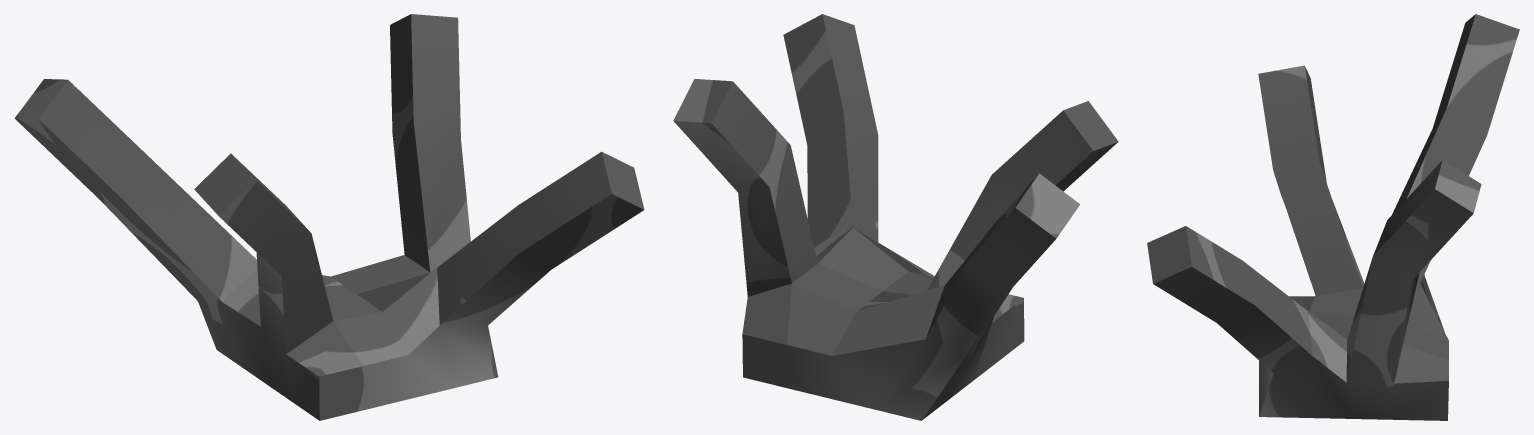
File: spider.fbx
3 views of the same model, side by side, from view 1: azimuth 30°, elevation 25°; view 2: azimuth 150°, elevation 25°; view 3: azimuth 270°, elevation 25° (orthographic). The views are drawn at different scales.
Visible parts, largest first — view 1: pCube1; view 2: pCube1; view 3: pCube1.
Boxes of the visible parts, x1,y1,x2,y2 form: pCube1: [14, 14, 644, 420]; pCube1: [673, 14, 1118, 420]; pCube1: [1147, 14, 1519, 420].
Bounding box in the file's own units: 0.1162 × 0.0725 × 0.0916.
